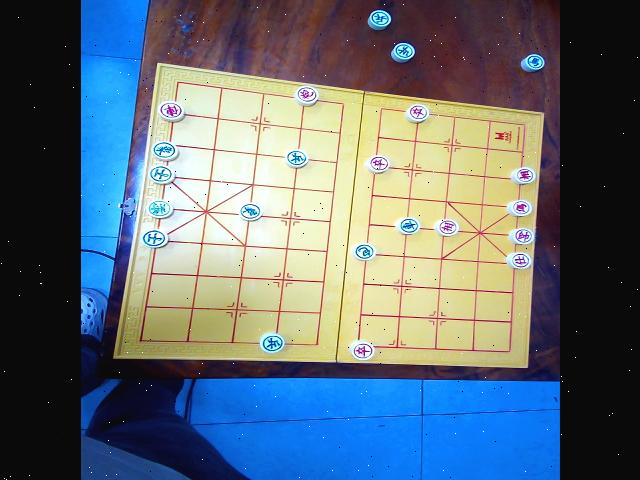piece: (156, 99, 184, 121), (260, 332, 286, 354), (348, 340, 376, 360), (150, 141, 178, 160), (146, 199, 174, 218), (148, 165, 174, 185), (295, 85, 319, 106), (142, 229, 168, 248), (404, 104, 430, 122), (520, 54, 546, 72), (284, 149, 308, 168), (238, 202, 262, 221), (364, 155, 390, 172), (351, 243, 377, 260), (510, 167, 536, 184), (506, 200, 532, 216), (508, 228, 534, 244), (506, 252, 532, 268), (436, 219, 460, 236), (396, 218, 420, 234)
